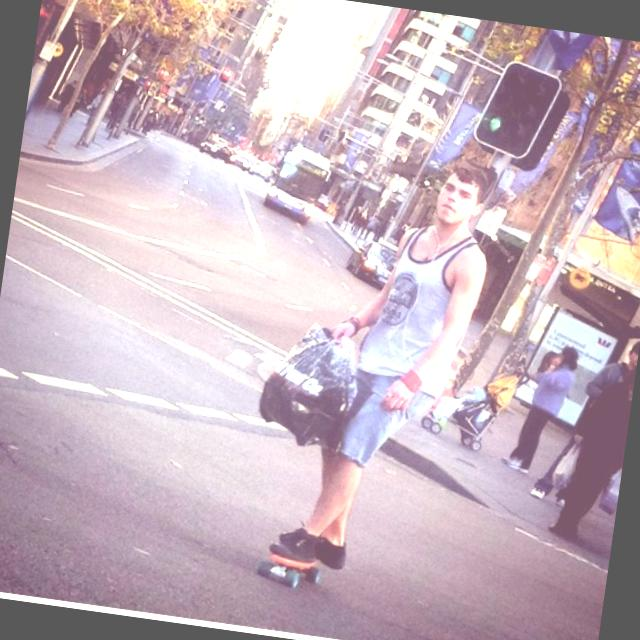Vehicle: (262, 140, 336, 230), (343, 238, 398, 288), (198, 141, 233, 165), (228, 151, 258, 172), (248, 160, 274, 180)
